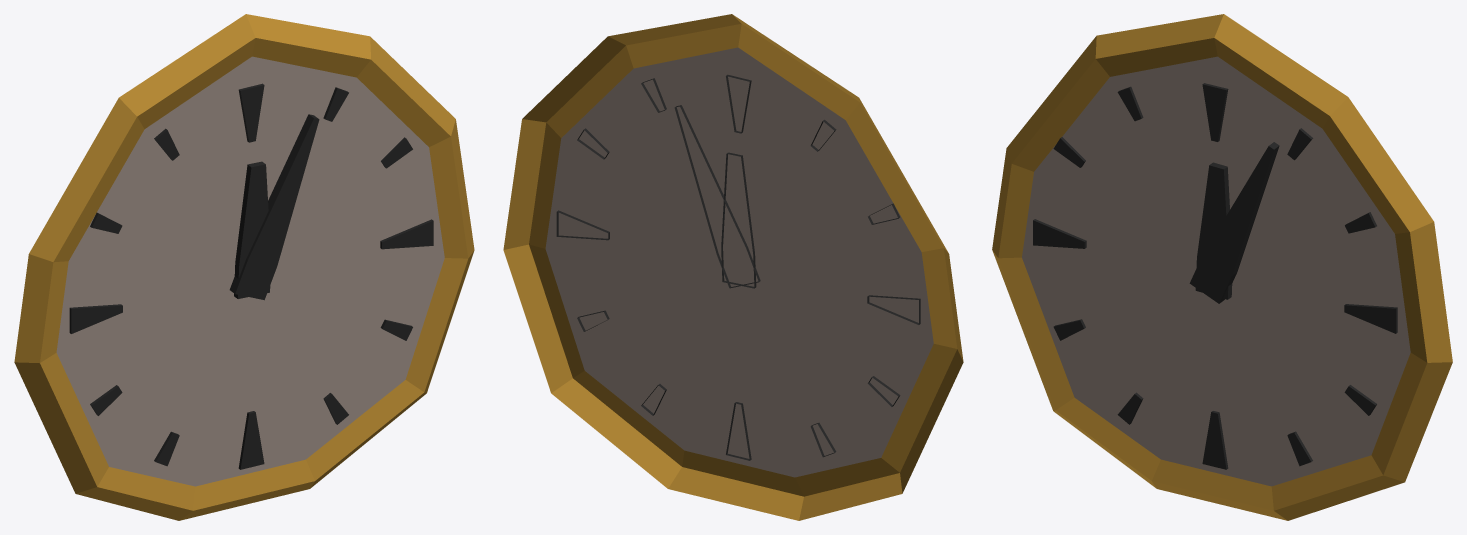
The model's file is LPHorror_Clock.fbx.
The picture shows the model from 3 angles, left to right: view 1: azimuth 30°, elevation 25°; view 2: azimuth 150°, elevation 25°; view 3: azimuth 330°, elevation 25°; orthographic projection.
Visible parts, largest first — view 1: Clock; view 2: Clock; view 3: Clock.
Boxes of the visible parts, x1,y1,x2,y2 form: Clock: [14, 14, 474, 520]; Clock: [503, 14, 963, 520]; Clock: [992, 14, 1452, 520].
Bounding box in the file's own units: 148 × 151 × 6.55.
